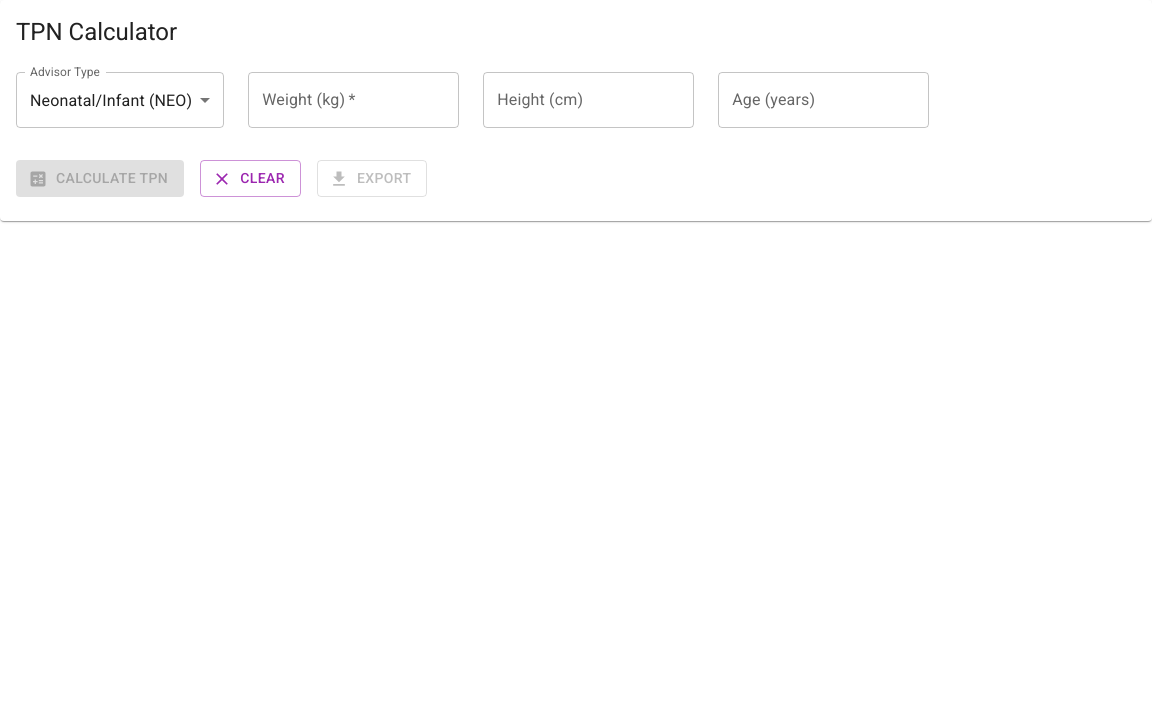
Test: TPNCalculator Component › should calculate TPN values when button clicked
The width and height of the screenshot is (1152, 720).
Type "70" into the number field labelled "Weight (kg) *".
click(354, 100); type("70")  # box x1=248 y1=72 x2=459 y2=128
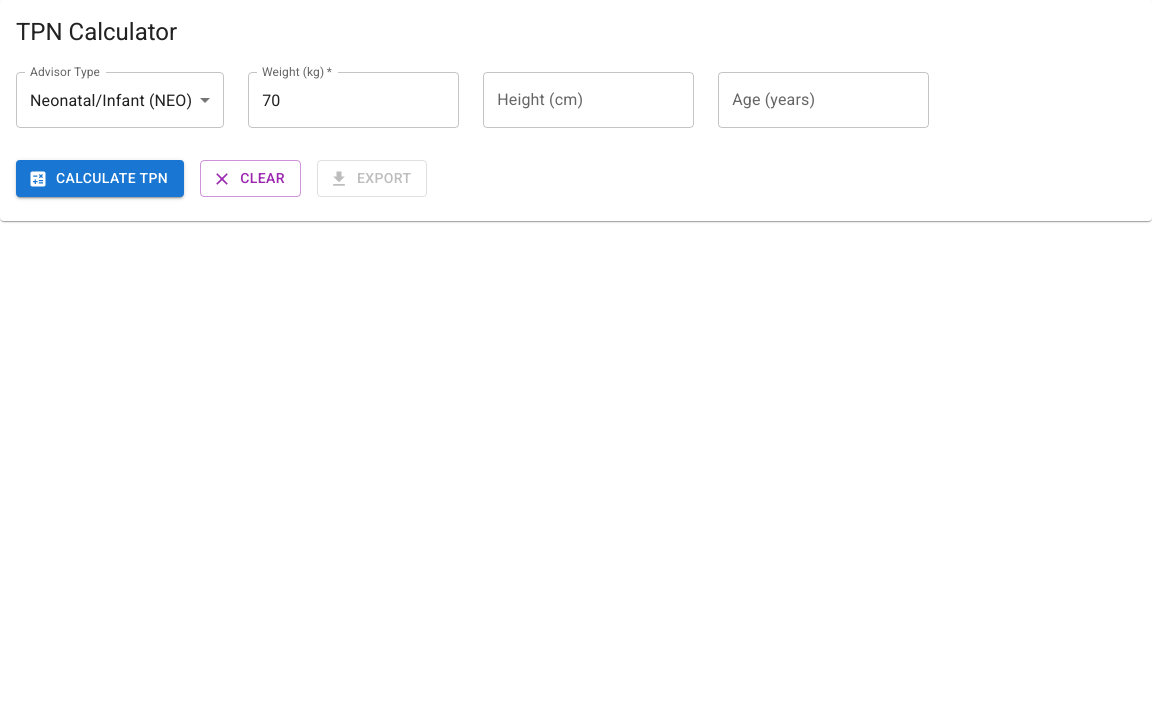
Click the button "Calculate TPN".
click(100, 179)  # box x1=16 y1=160 x2=184 y2=197
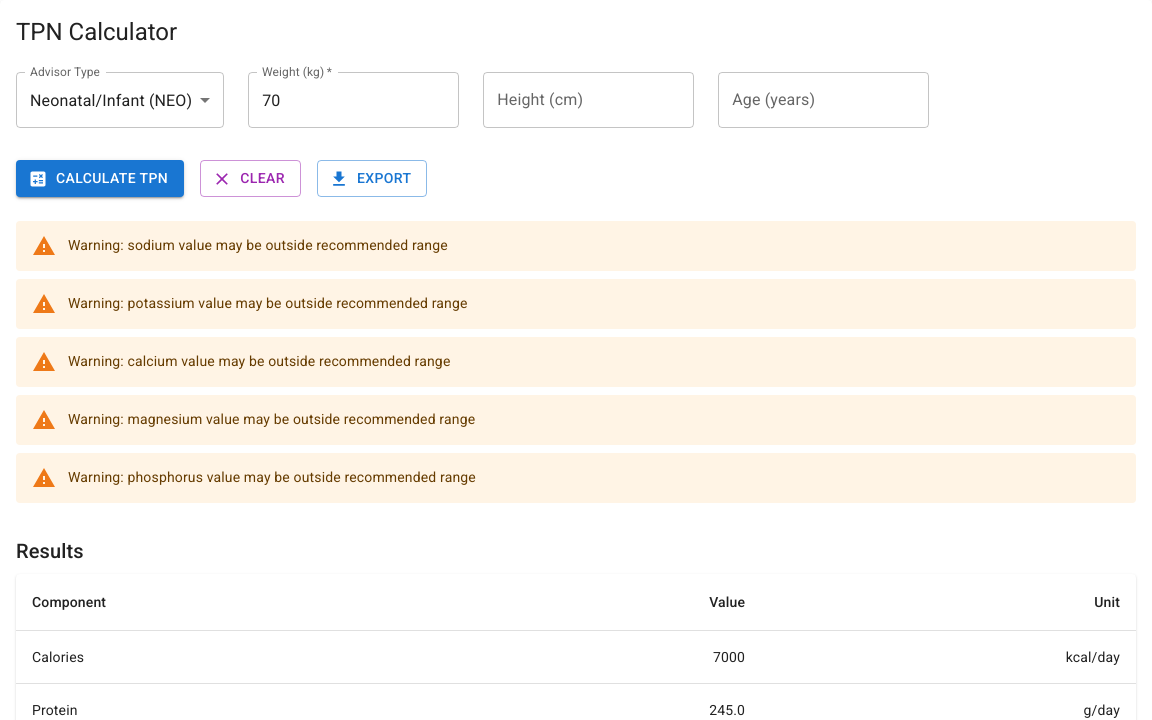
Expected: the heading "Results" is shown, x1=16 y1=539 x2=84 y2=563
